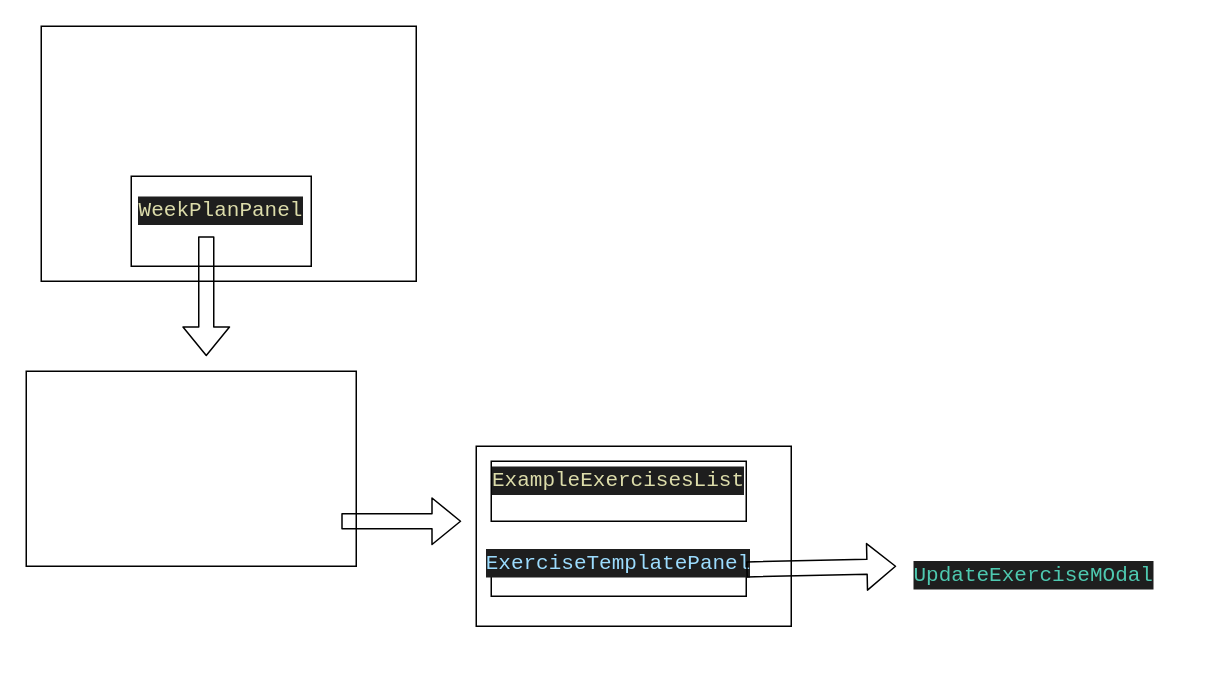
The diagram is 1208 pixels wide and 683 high, and some of its shapes have lost their labels. Here are the shapes that lost their labels. From the top down, the box of each, then its label:
(40, 25, 416, 281): WEEK PLAN PAGE
(25, 370, 356, 566): TrainingDetailsPanel TrainingOptions CategoriesStats AddExerciseTemplatePanel
